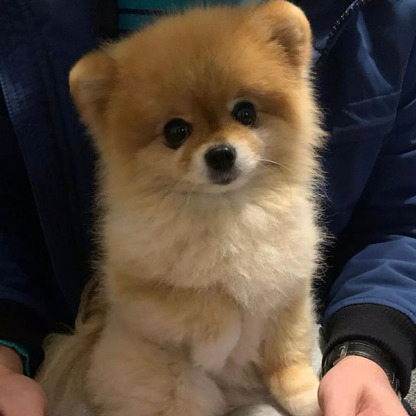Pomeranian: (54, 18, 339, 402)
